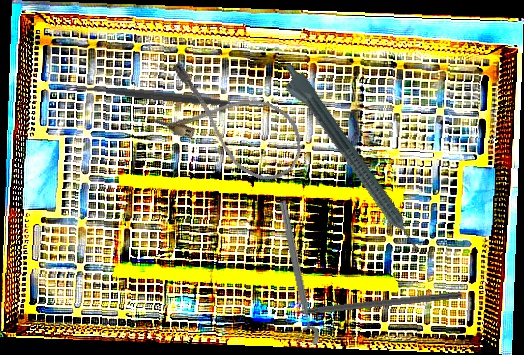Cannula: (145, 57, 316, 191)
Fixation Ring: (266, 199, 322, 349)
Handpiece: (273, 60, 425, 261)
Hook Surgical: (273, 289, 462, 318)
Spatula Surgical: (66, 74, 270, 119)
